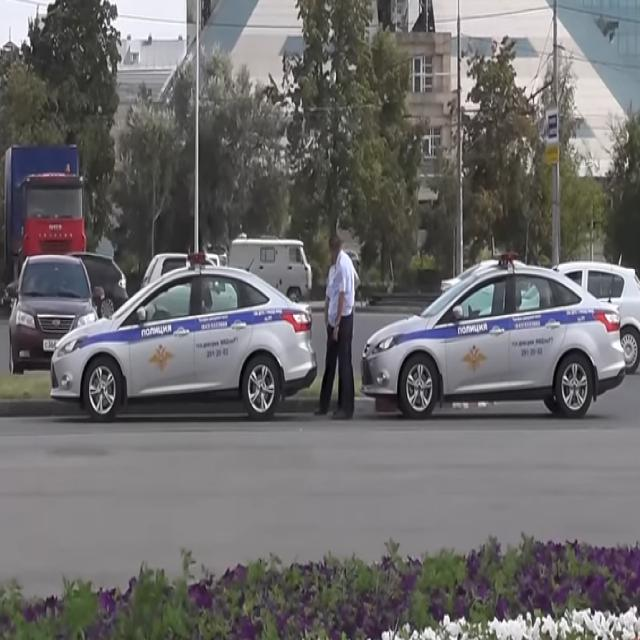non emergency car: (562, 245, 640, 366), (3, 143, 85, 258), (9, 260, 93, 368), (231, 236, 310, 300), (84, 253, 130, 319)
police car: (360, 248, 626, 417), (50, 252, 316, 414)
